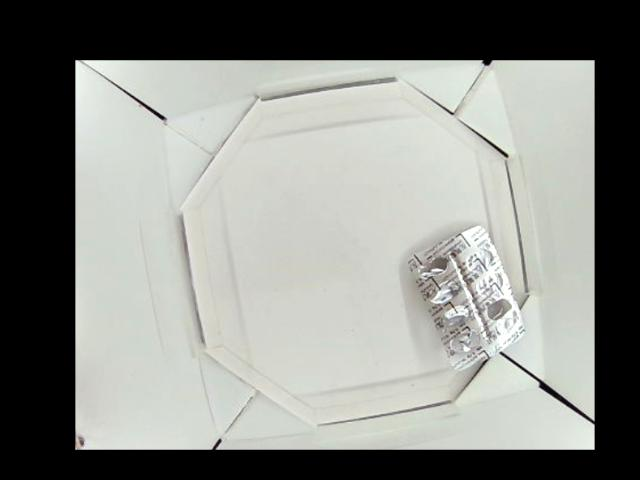Medicine: (408, 223, 527, 366)
